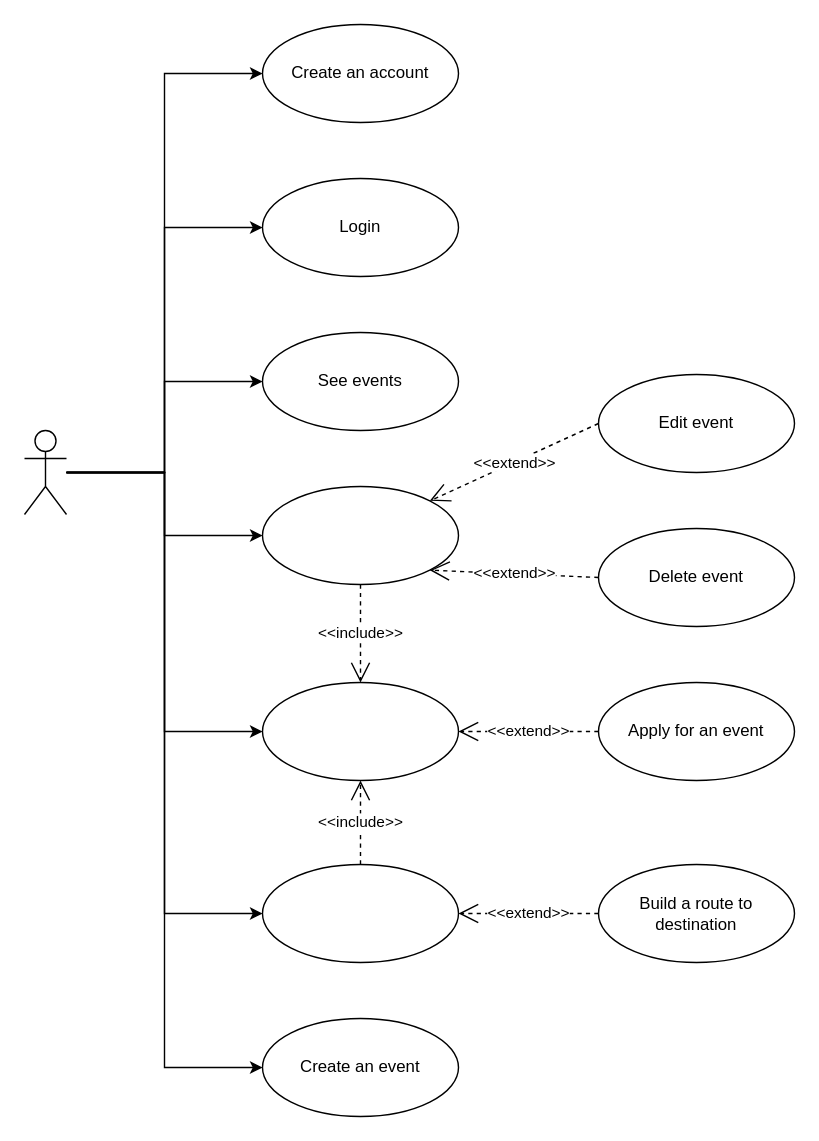
Some shapes in this 819 by 1141 pixel diagram are drawn without their labels. Each missing label, with the centre of its shape:
"See applied event" belongs at pixel 359 912.
"See event" belongs at pixel 359 730.
"See hosted event" belongs at pixel 359 534.
"User" belongs at pixel 44 471.
